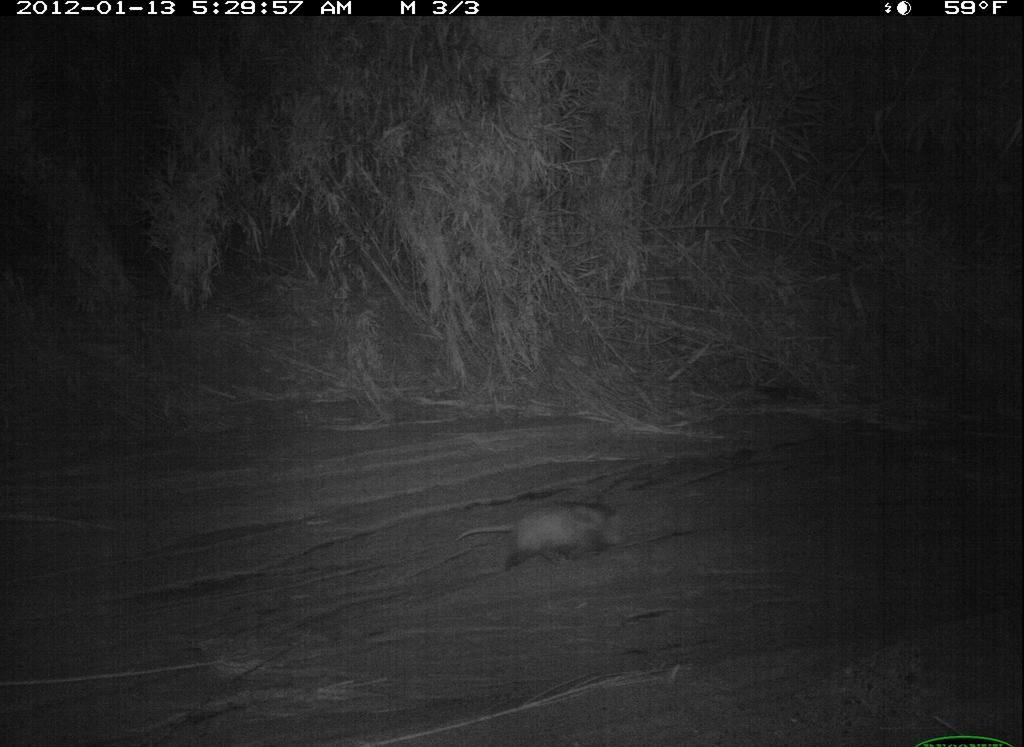opossum: (447, 495, 632, 578)
